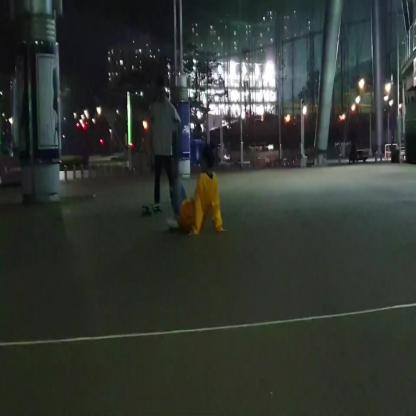Fall_Down: (167, 145, 228, 237)
